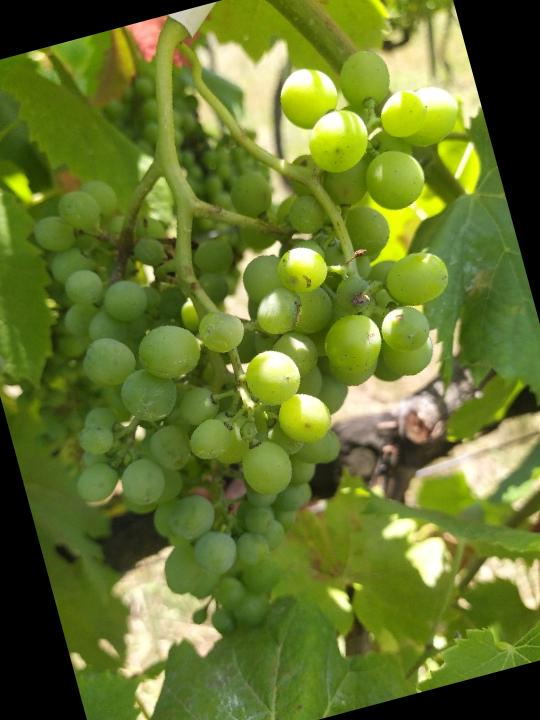grape: (0, 22, 540, 670)
